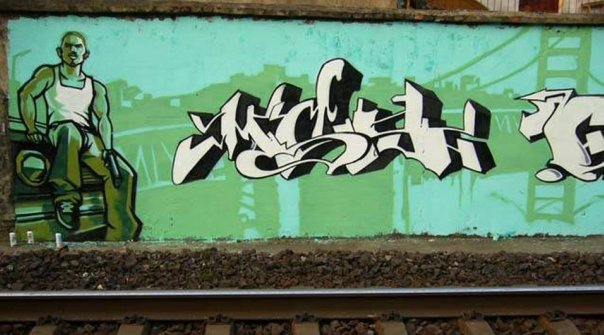graffity: (6, 15, 603, 244)
